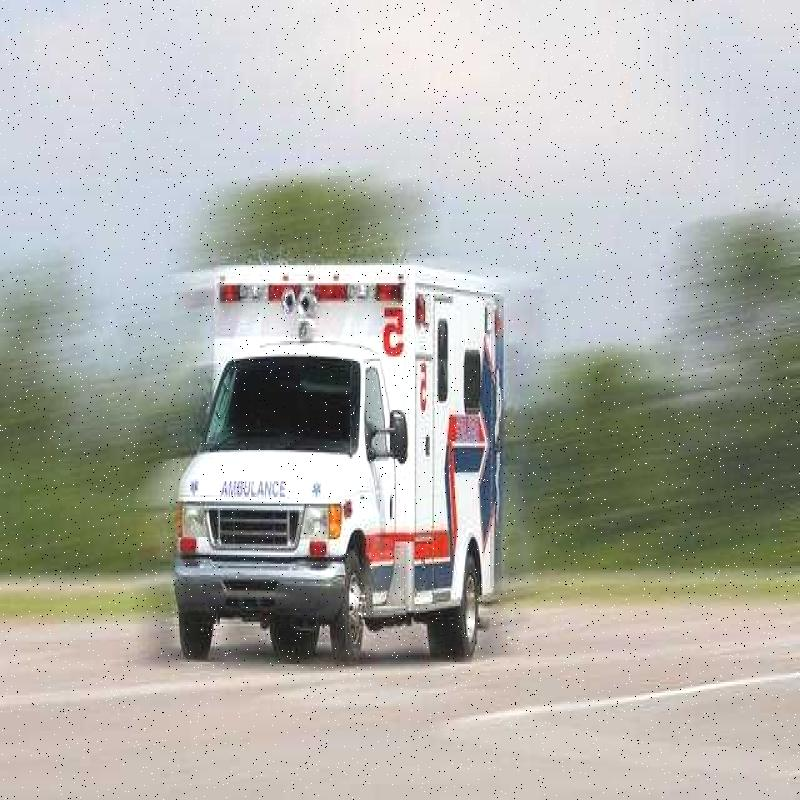AmbulanceSiren: (208, 266, 423, 330)
